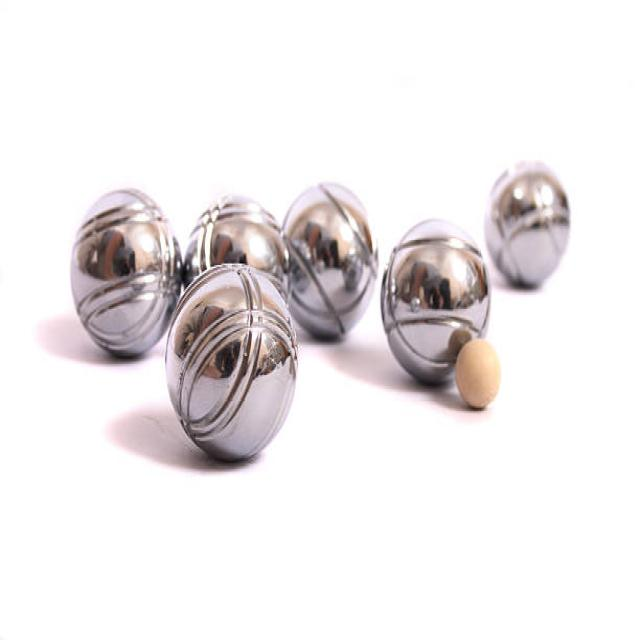hatball: (453, 338, 506, 415)
petanque: (160, 258, 306, 471), (65, 180, 184, 368), (375, 215, 498, 394), (279, 182, 378, 348), (181, 188, 293, 313), (479, 151, 575, 295)
